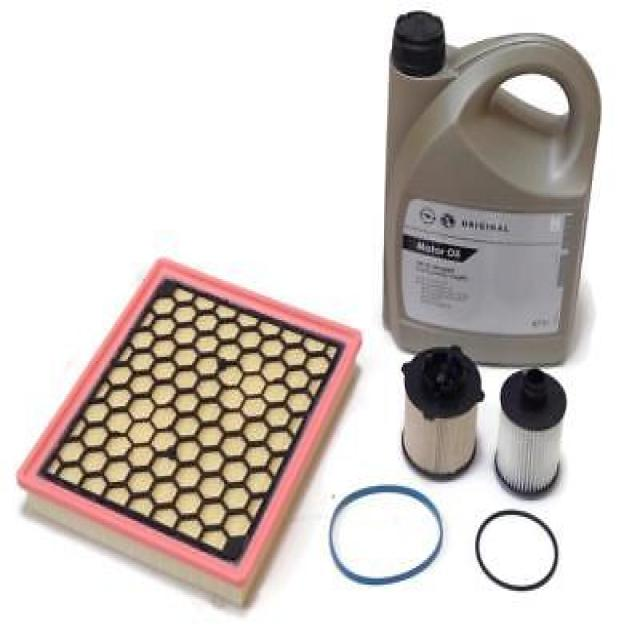air_filter: (14, 250, 369, 623)
motor_oil: (380, 3, 605, 361)
oil_filter: (402, 347, 483, 481), (494, 365, 568, 497)
